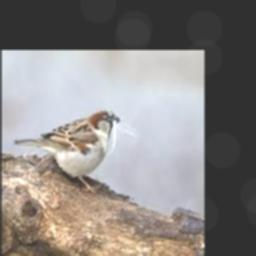Sparrow: (13, 108, 120, 192)
